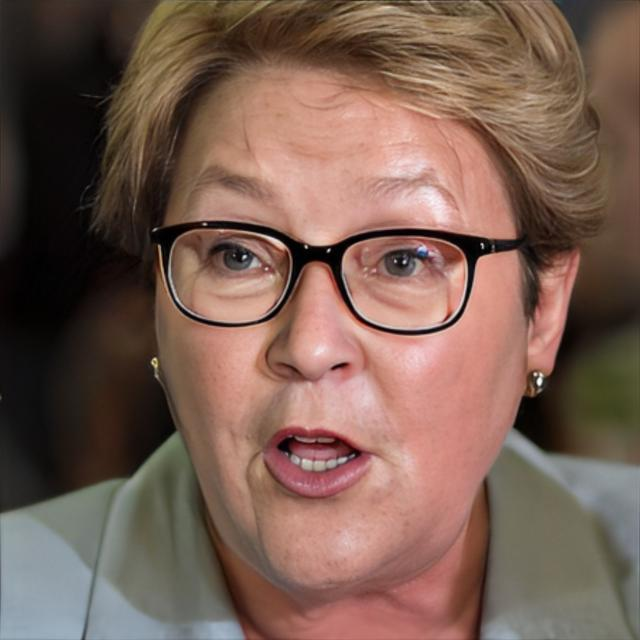surprise: (155, 50, 527, 590)
